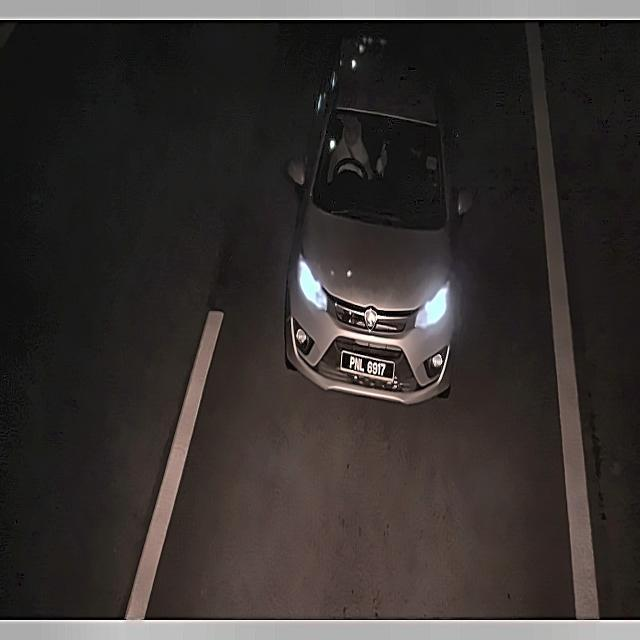car: (336, 345, 399, 388)
